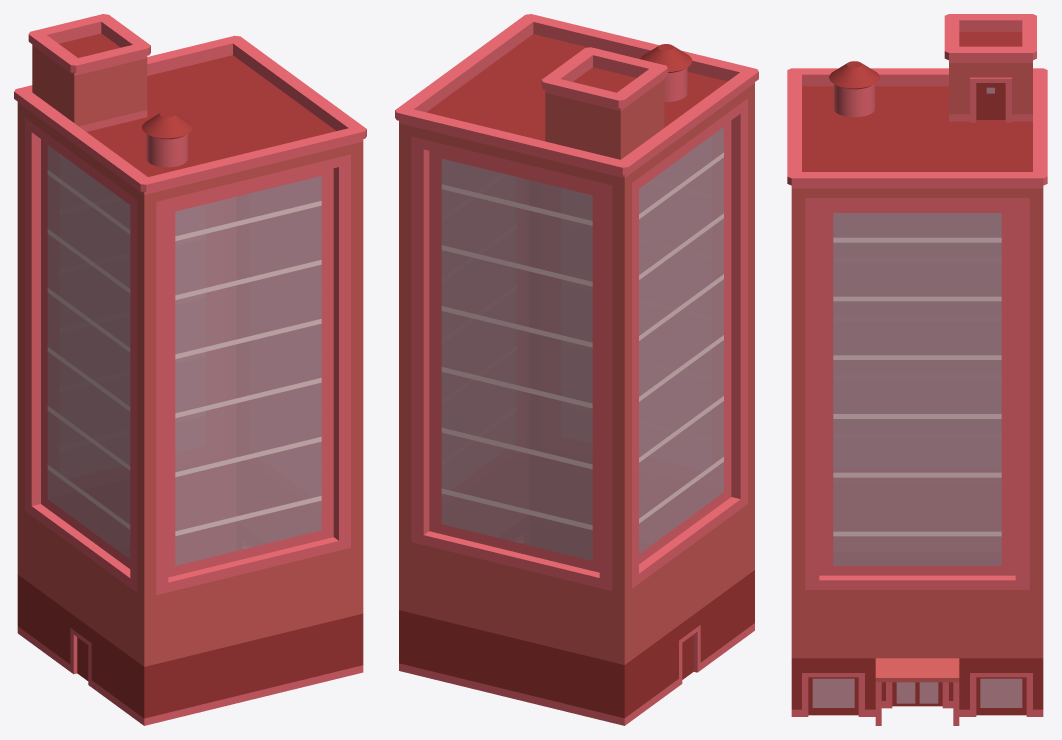
Rendered from redbuilding.fbx.
3 views of the same model, side by side, from view 1: azimuth 30°, elevation 25°; view 2: azimuth 150°, elevation 25°; view 3: azimuth 270°, elevation 25° (orthographic). The views are drawn at different scales.
Visible parts, largest first — view 1: skyscraperC; view 2: skyscraperC; view 3: skyscraperC.
Part boxes in pixels (bbox=[...]): skyscraperC: bbox=[14, 14, 366, 725]; skyscraperC: bbox=[395, 14, 758, 725]; skyscraperC: bbox=[787, 14, 1047, 725].
Bounding box in the file's own units: 122 × 281 × 111.
